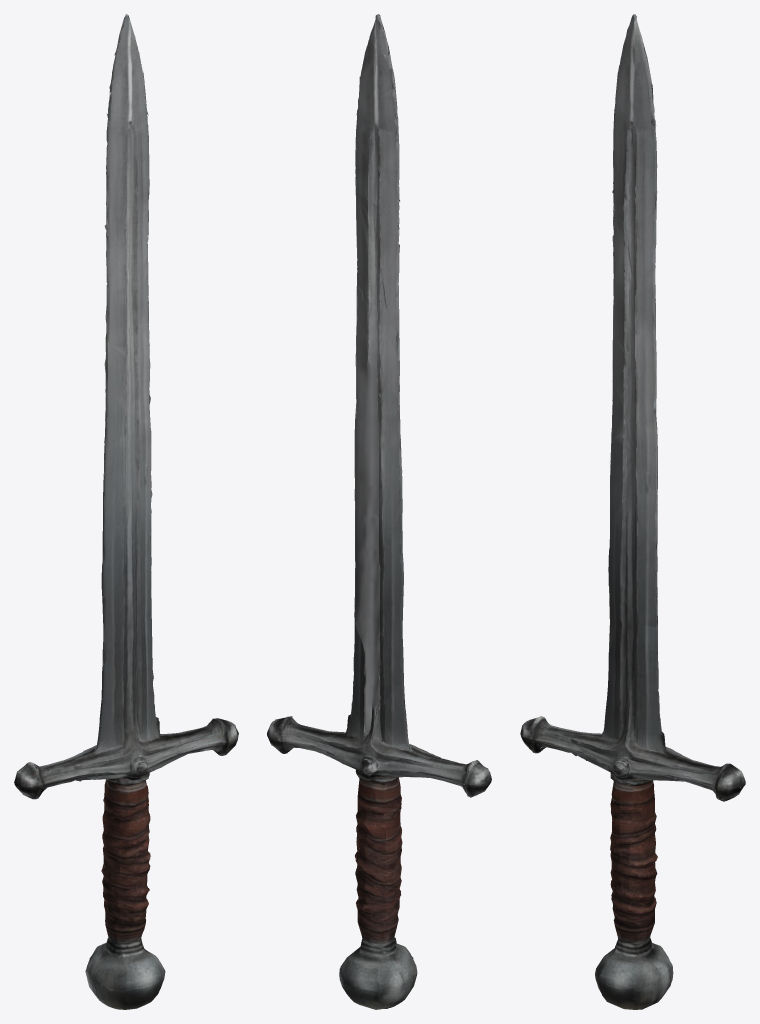
File: тип-меч.glb
3 renders of one model, left to right at view 1: azimuth 30°, elevation 25°; view 2: azimuth 150°, elevation 25°; view 3: azimuth 330°, elevation 25°, orthographic.
Visible parts, largest first — view 1: тип-меч; view 2: тип-меч; view 3: тип-меч.
Part boxes in pixels (x1,y1,x2,y2): тип-меч: [14, 14, 238, 1009]; тип-меч: [267, 14, 491, 1009]; тип-меч: [520, 14, 745, 1009].
Size of the model in its own units: 0.2321 by 0.9999 by 0.0741.
1 material, 1 textured.
